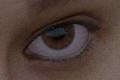eye: (43, 24, 75, 50)
